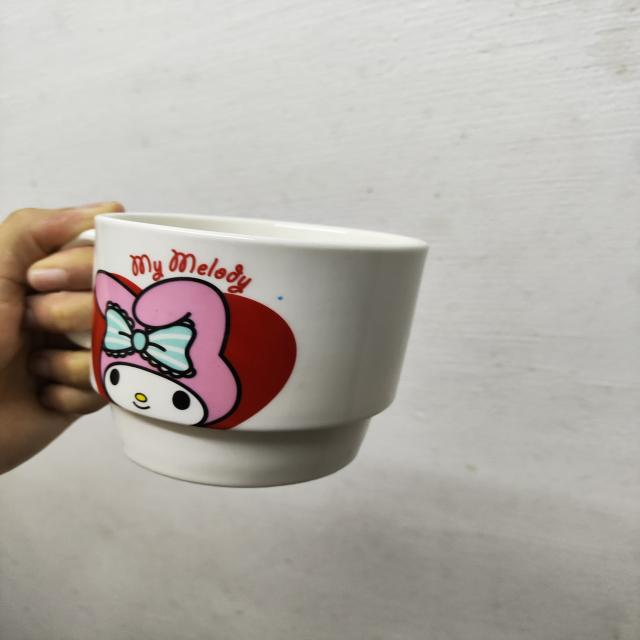cup: (65, 188, 446, 494)
